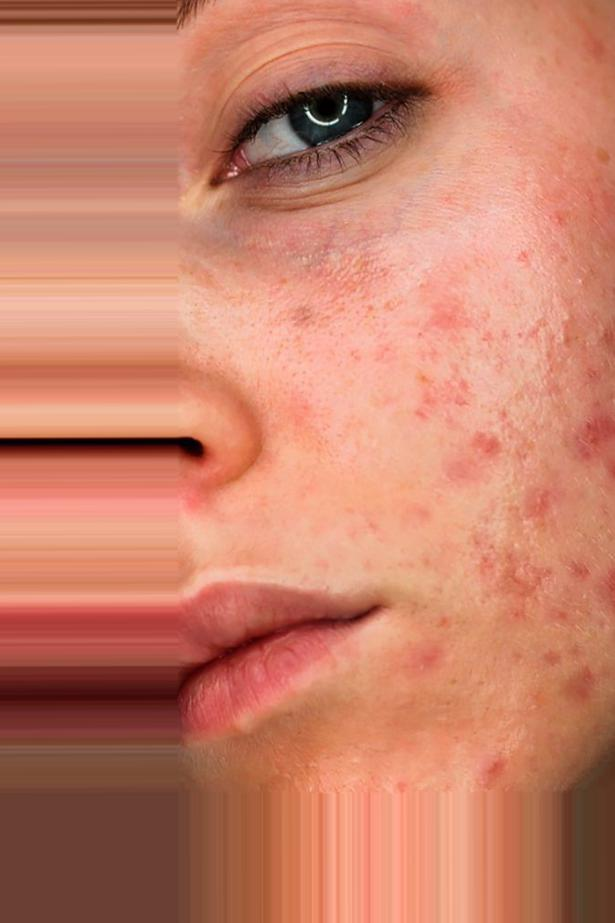Acne: (410, 233, 560, 478), (480, 480, 615, 628), (555, 318, 615, 462), (540, 140, 615, 247), (462, 675, 538, 758), (280, 228, 377, 272)
